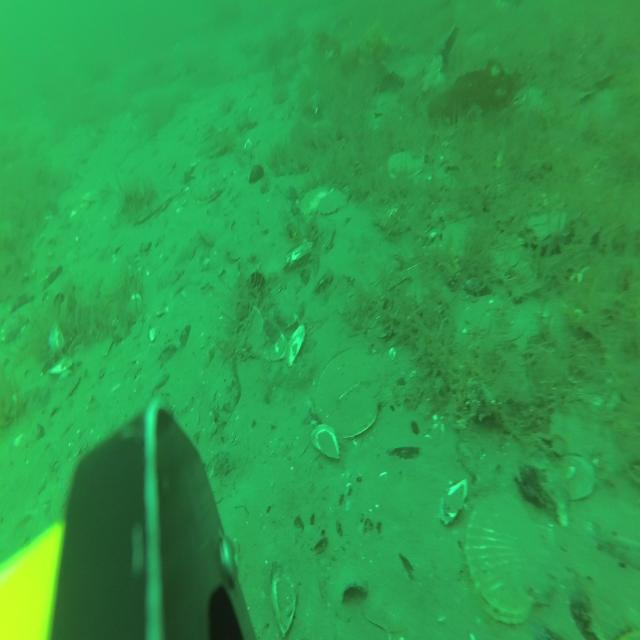scallop: (464, 492, 557, 623), (317, 349, 396, 440), (388, 148, 424, 178), (194, 174, 224, 204), (304, 182, 330, 210), (320, 189, 348, 213)
